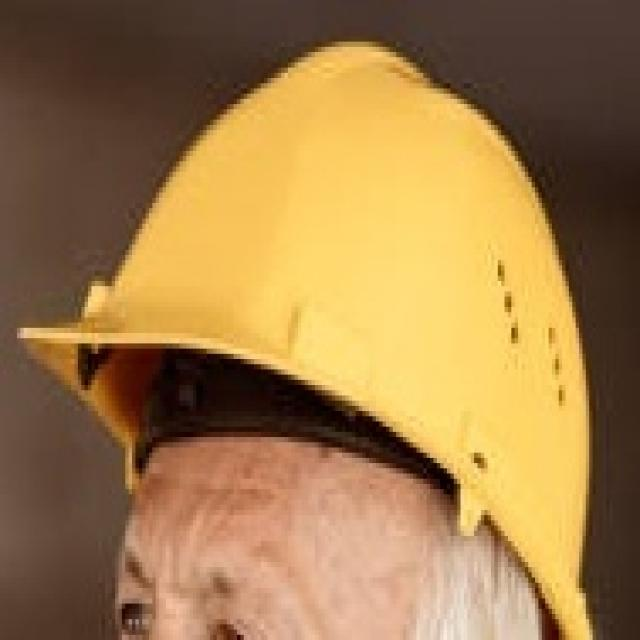safety_helmet: (16, 37, 597, 638)
